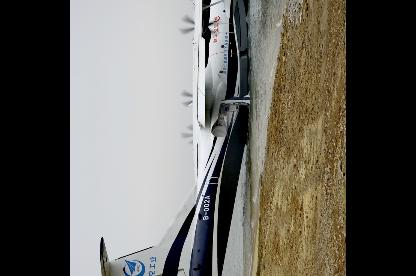AG600: (97, 0, 251, 273)
